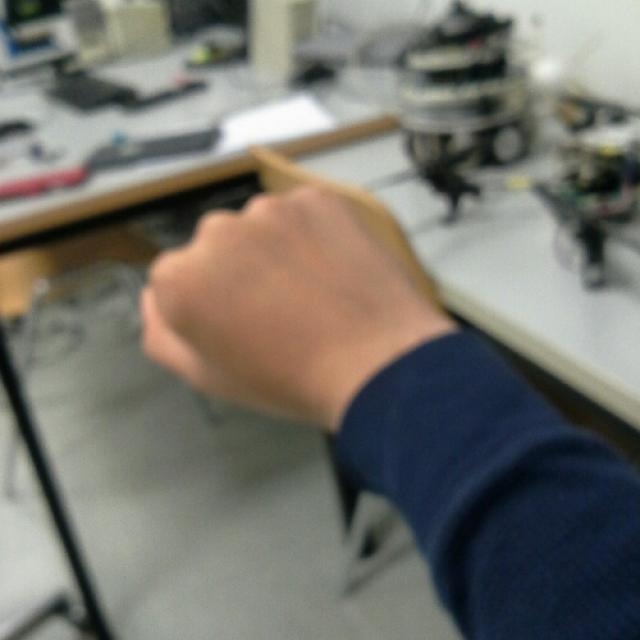rock: (141, 186, 412, 428)
